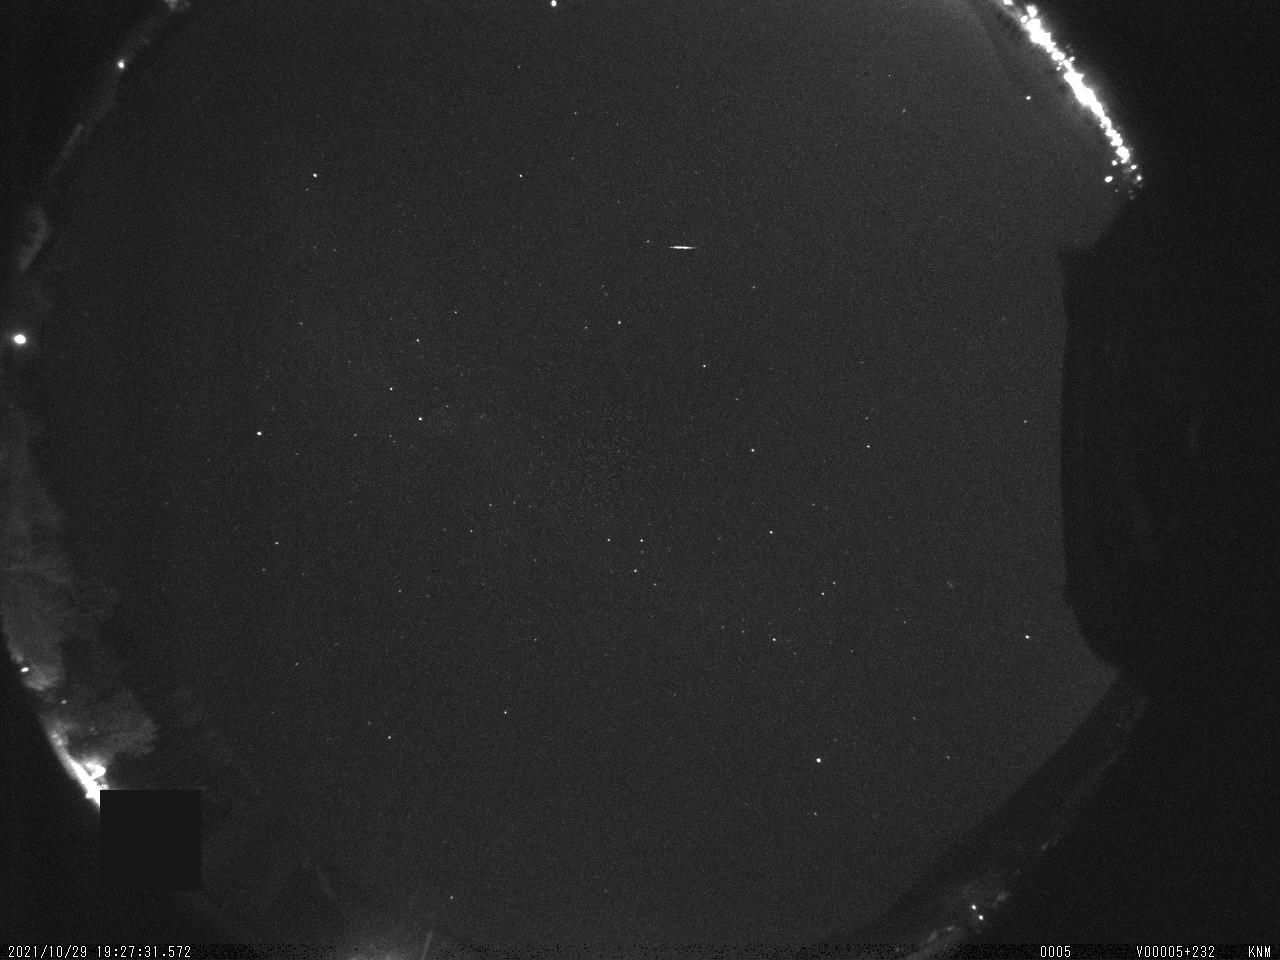meteor: (662, 226, 696, 261)
